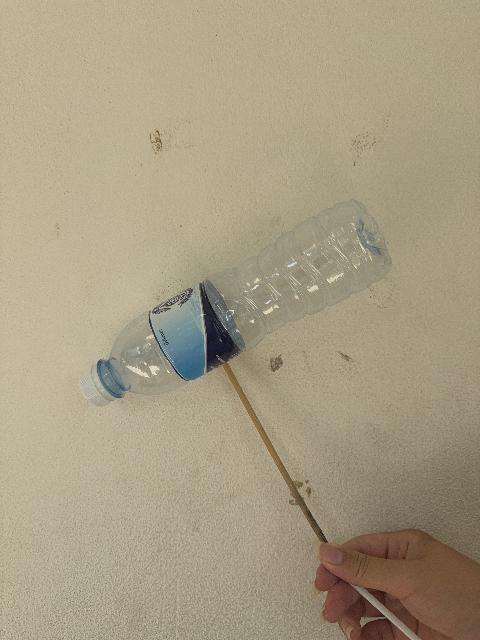bottle: (80, 201, 391, 406)
